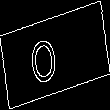O_N: (39, 25, 71, 85)
